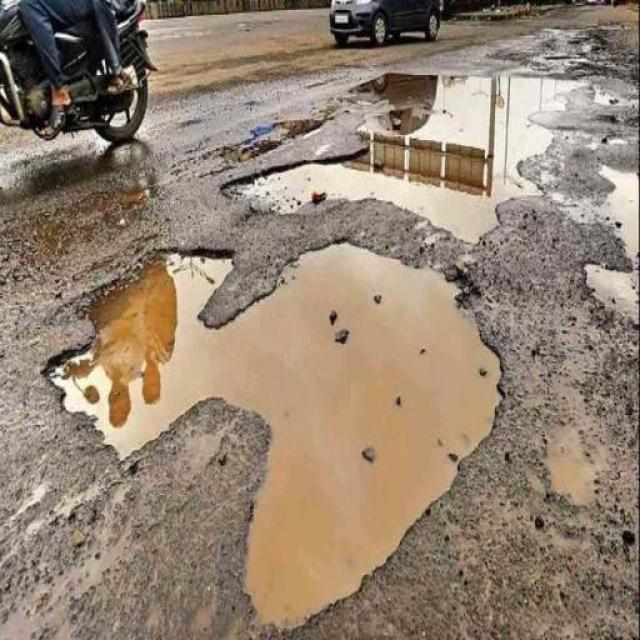puddle: (137, 263, 473, 439), (256, 450, 403, 608), (377, 74, 506, 233)
